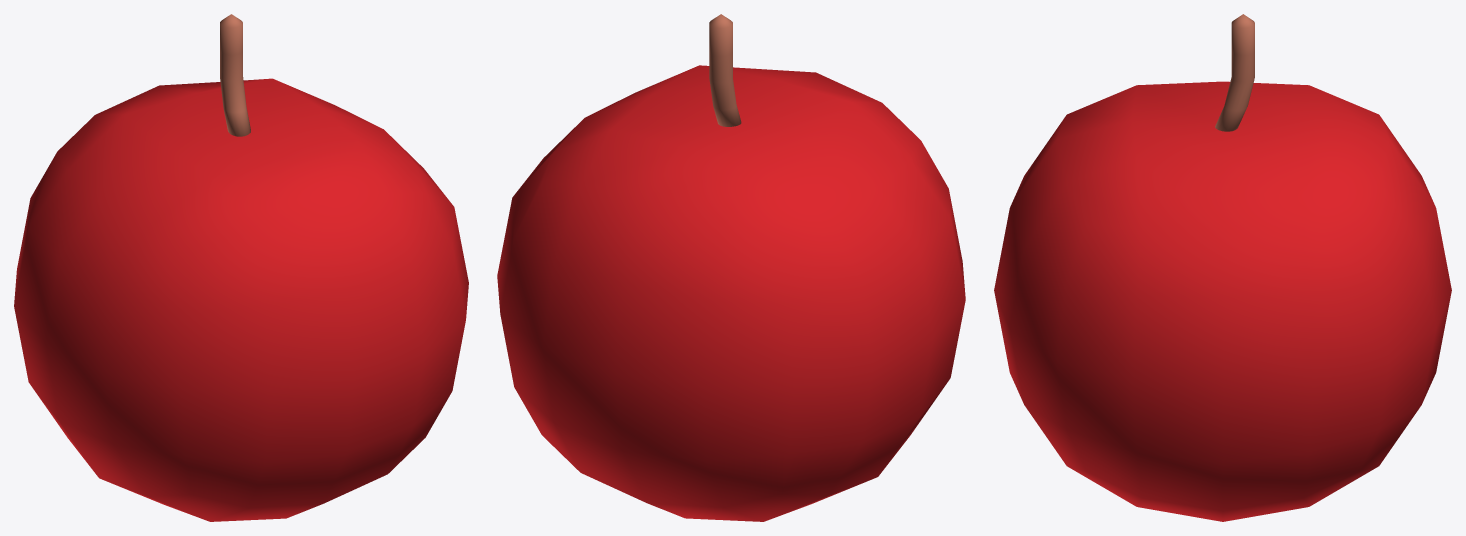
Rendered from Apple.fbx.
3 views of the same model, side by side, from view 1: azimuth 30°, elevation 25°; view 2: azimuth 150°, elevation 25°; view 3: azimuth 270°, elevation 25° (orthographic). The views are drawn at different scales.
Visible parts, largest first — view 1: Apple; view 2: Apple; view 3: Apple.
Boxes of the visible parts, <box> form: Apple: <box>14,14,468,521</box>; Apple: <box>497,14,965,521</box>; Apple: <box>994,14,1451,521</box>.
Bounding box in the file's own units: 1.68 × 1.9 × 1.68.
